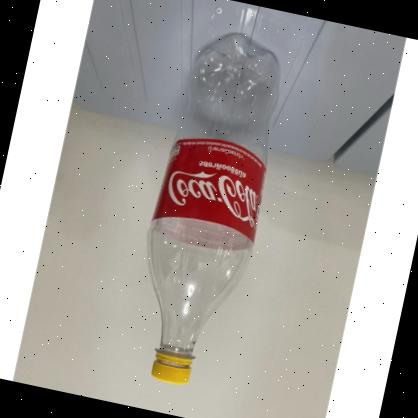bottle: (116, 22, 298, 396)
cap: (148, 344, 194, 388)
label: (147, 130, 273, 254)
